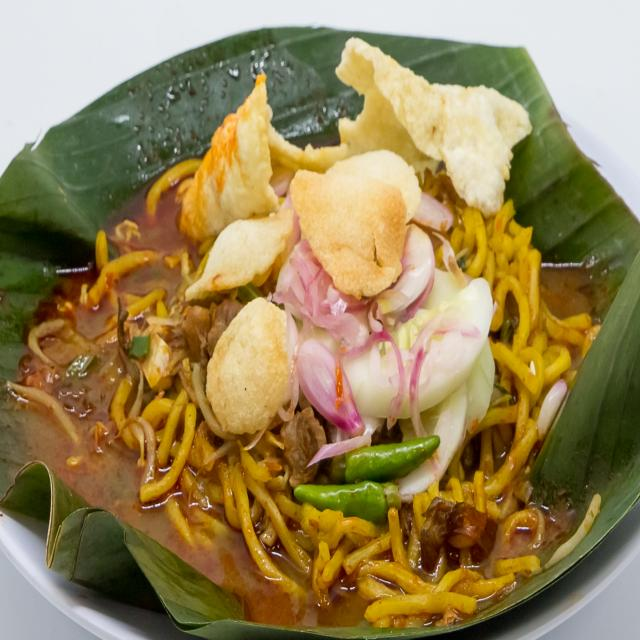Mie-Aceh: (27, 33, 604, 613)
